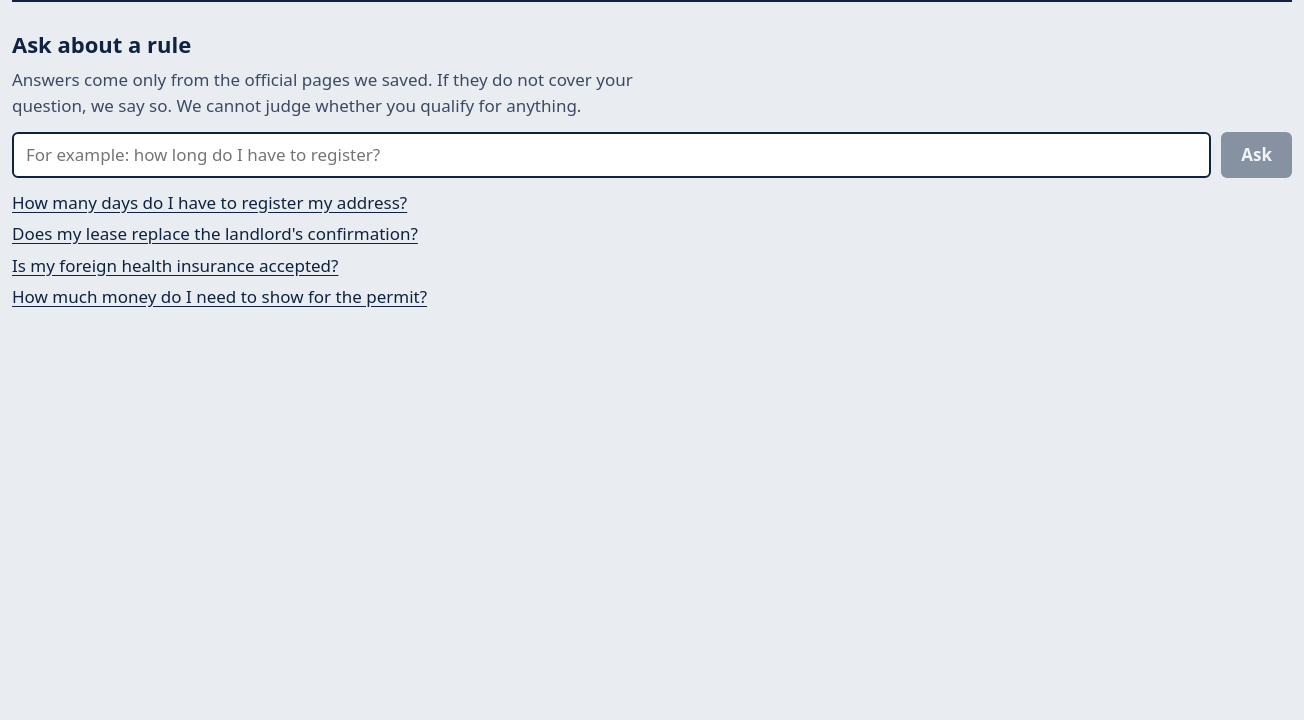
Test: Ask form › clicking Ask submits a typed question and keeps it in the input
Type "how long do I have to register" into the field named "Your question".
click(612, 155); type("how long do I have to register")  # box [12,132,1211,178]
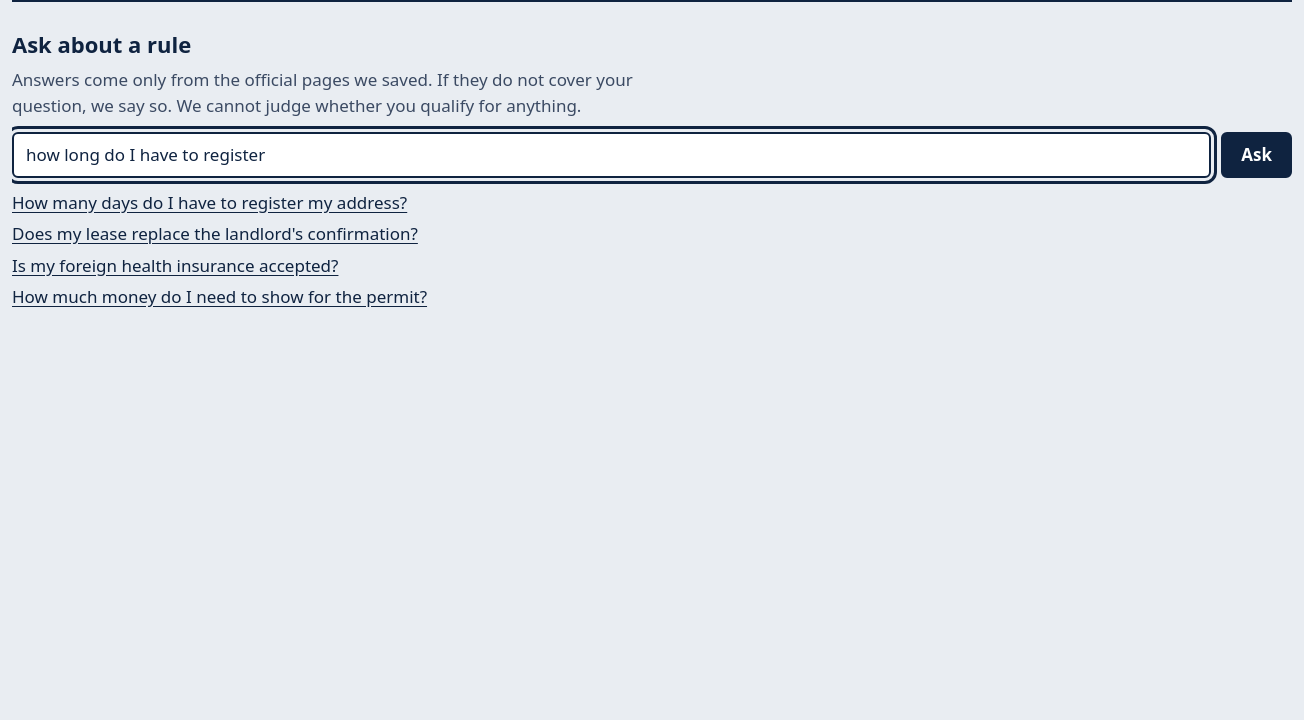
Click the button "Ask".
click(1257, 155)  # box [1221,132,1292,178]
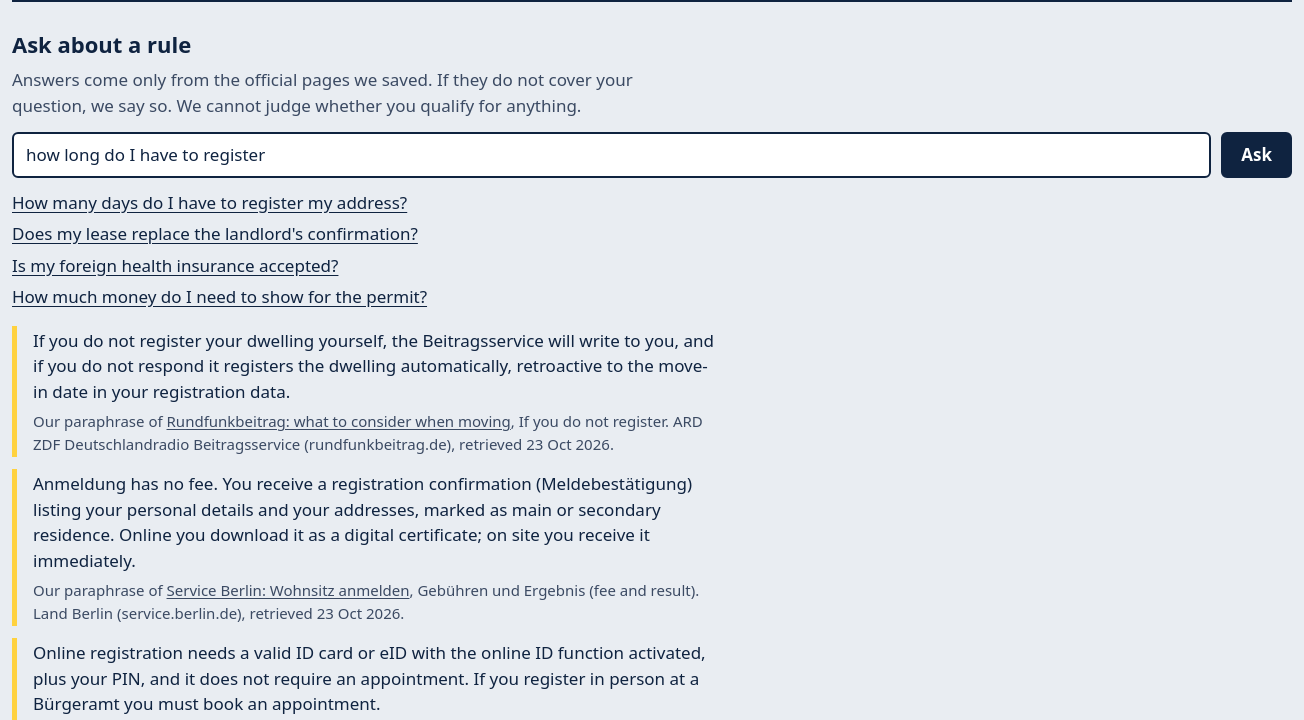
expect the text "retrieved" is shown: met, box [451,434,526,454]
